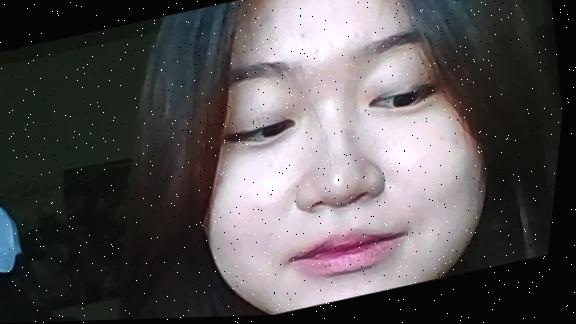eye: (263, 122, 291, 148), (394, 91, 423, 115)
iris: (368, 85, 436, 117), (235, 119, 300, 150)
